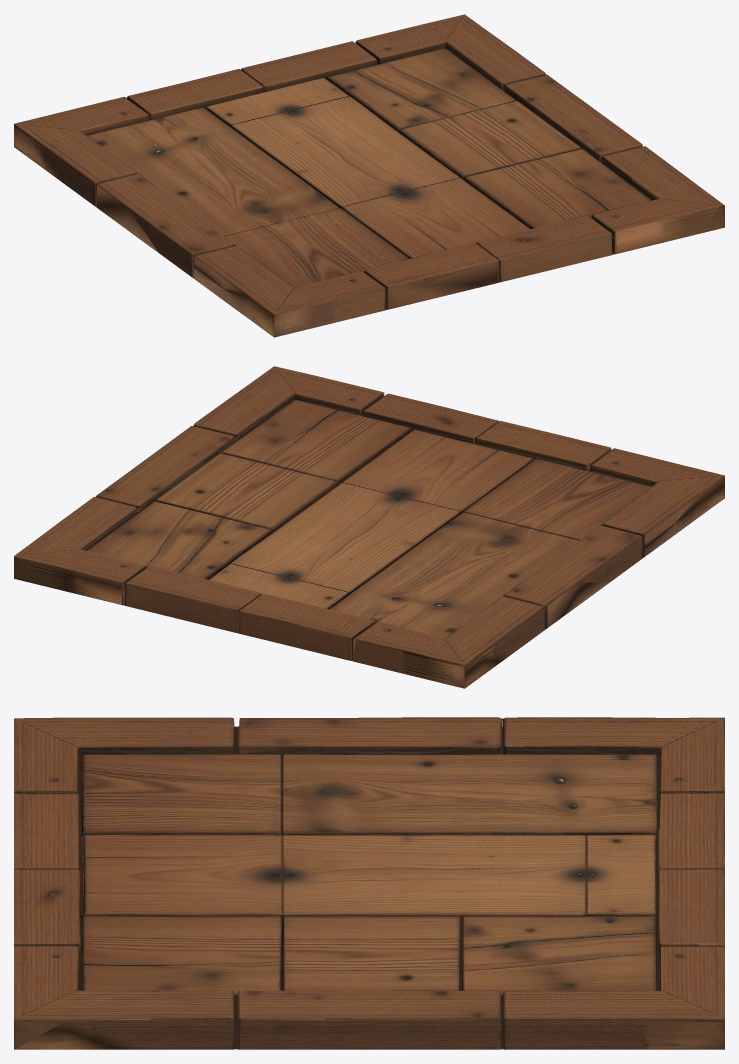
File: floor-wood.glb
The picture shows the model from 3 angles, top to bottom: view 1: azimuth 30°, elevation 25°; view 2: azimuth 150°, elevation 25°; view 3: azimuth 270°, elevation 25°; orthographic projection. The views are drawn at different scales.
Size of the model in its own units: 2 by 0.1 by 2.
Materials: 1 (1 with a texture image).
